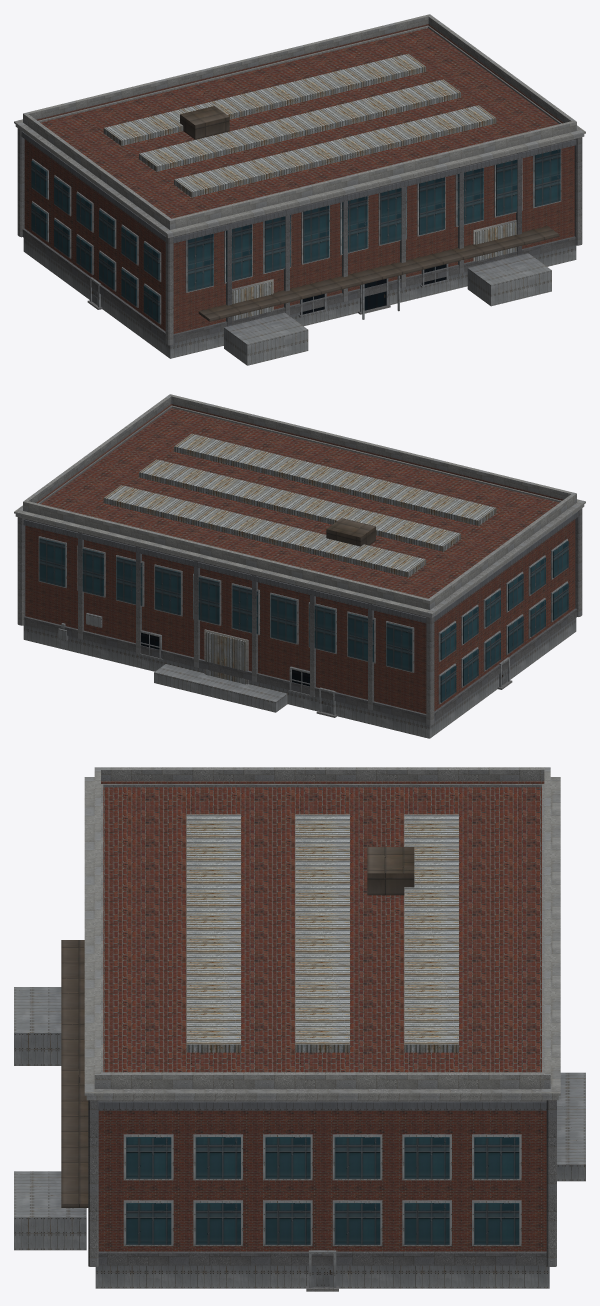
The model's file is ironworks-machine-shop_lod0.gltf.
3 renders of one model, top to bottom at view 1: azimuth 30°, elevation 25°; view 2: azimuth 150°, elevation 25°; view 3: azimuth 270°, elevation 25°, orthographic. The views are drawn at different scales.
Visible parts, largest first — view 1: ironworks-machine-shop_upper, ironworks-machine-shop__v4_stone_detail, ironworks-machine-shop_fen_07-glass-curtain-blue_1, ironworks-machine-shop__sawtooth_a, ironworks-machine-shop__sawtooth_b, ironworks-machine-shop__sawtooth_c, ironworks-machine-shop__v4_metal_detail, ironworks-machine-shop_base, ironworks-machine-shop_fen_14-steel-panel_0, ironworks-machine-shop__cornice, ironworks-machine-shop__material_stack_b, ironworks-machine-shop__material_stack_a (+3 smaller); view 2: ironworks-machine-shop_upper, ironworks-machine-shop__v4_stone_detail, ironworks-machine-shop_fen_07-glass-curtain-blue_1, ironworks-machine-shop__sawtooth_a, ironworks-machine-shop__sawtooth_c, ironworks-machine-shop__sawtooth_b, ironworks-machine-shop_base, ironworks-machine-shop_fen_14-steel-panel_0, ironworks-machine-shop__cornice, ironworks-machine-shop__loading_dock, ironworks-machine-shop_fen_21-corrugated-steel_3, ironworks-machine-shop__v4_metal_detail (+2 smaller); view 3: ironworks-machine-shop_upper, ironworks-machine-shop__v4_stone_detail, ironworks-machine-shop_fen_07-glass-curtain-blue_1, ironworks-machine-shop__sawtooth_a, ironworks-machine-shop__sawtooth_b, ironworks-machine-shop__sawtooth_c, ironworks-machine-shop_base, ironworks-machine-shop__v4_metal_detail, ironworks-machine-shop_fen_14-steel-panel_0, ironworks-machine-shop__material_stack_b, ironworks-machine-shop__cornice, ironworks-machine-shop__material_stack_a (+2 smaller).
Part boxes in pixels (x1=…): ironworks-machine-shop_upper: x1=24, y1=28, x2=574, y2=333; ironworks-machine-shop__v4_stone_detail: x1=14, y1=14, x2=585, y2=345; ironworks-machine-shop_fen_07-glass-curtain-blue_1: x1=31, y1=149, x2=560, y2=322; ironworks-machine-shop__sawtooth_a: x1=174, y1=105, x2=496, y2=197; ironworks-machine-shop__sawtooth_b: x1=139, y1=79, x2=460, y2=171; ironworks-machine-shop__sawtooth_c: x1=103, y1=53, x2=425, y2=145; ironworks-machine-shop__v4_metal_detail: x1=180, y1=106, x2=558, y2=321; ironworks-machine-shop_base: x1=23, y1=238, x2=576, y2=358; ironworks-machine-shop_fen_14-steel-panel_0: x1=32, y1=149, x2=561, y2=324; ironworks-machine-shop__cornice: x1=21, y1=131, x2=576, y2=243; ironworks-machine-shop__material_stack_b: x1=467, y1=253, x2=551, y2=306; ironworks-machine-shop__material_stack_a: x1=224, y1=312, x2=308, y2=365; ironworks-machine-shop_upper: x1=25, y1=408, x2=575, y2=713; ironworks-machine-shop__v4_stone_detail: x1=14, y1=394, x2=585, y2=725; ironworks-machine-shop_fen_07-glass-curtain-blue_1: x1=39, y1=538, x2=568, y2=702; ironworks-machine-shop__sawtooth_a: x1=174, y1=433, x2=496, y2=525; ironworks-machine-shop__sawtooth_c: x1=103, y1=485, x2=425, y2=577; ironworks-machine-shop__sawtooth_b: x1=139, y1=459, x2=460, y2=551; ironworks-machine-shop_base: x1=23, y1=618, x2=576, y2=738; ironworks-machine-shop_fen_14-steel-panel_0: x1=38, y1=536, x2=567, y2=715; ironworks-machine-shop__cornice: x1=23, y1=511, x2=578, y2=623; ironworks-machine-shop__loading_dock: x1=154, y1=664, x2=287, y2=712; ironworks-machine-shop_fen_21-corrugated-steel_3: x1=205, y1=631, x2=246, y2=684; ironworks-machine-shop__v4_metal_detail: x1=326, y1=518, x2=375, y2=546; ironworks-machine-shop_upper: x1=98, y1=787, x2=546, y2=1251; ironworks-machine-shop__v4_stone_detail: x1=84, y1=767, x2=560, y2=1266; ironworks-machine-shop_fen_07-glass-curtain-blue_1: x1=126, y1=1137, x2=519, y2=1244; ironworks-machine-shop__sawtooth_a: x1=186, y1=814, x2=240, y2=1052; ironworks-machine-shop__sawtooth_b: x1=295, y1=814, x2=349, y2=1052; ironworks-machine-shop__sawtooth_c: x1=404, y1=814, x2=458, y2=1052; ironworks-machine-shop_base: x1=95, y1=1265, x2=549, y2=1288; ironworks-machine-shop__v4_metal_detail: x1=61, y1=847, x2=414, y2=1207; ironworks-machine-shop_fen_14-steel-panel_0: x1=123, y1=1134, x2=521, y2=1287; ironworks-machine-shop__material_stack_b: x1=14, y1=1171, x2=86, y2=1250; ironworks-machine-shop__cornice: x1=98, y1=1101, x2=546, y2=1110; ironworks-machine-shop__material_stack_a: x1=14, y1=987, x2=61, y2=1065.
Bounding box in the file's own units: 41.22 × 13.35 × 31.5.
